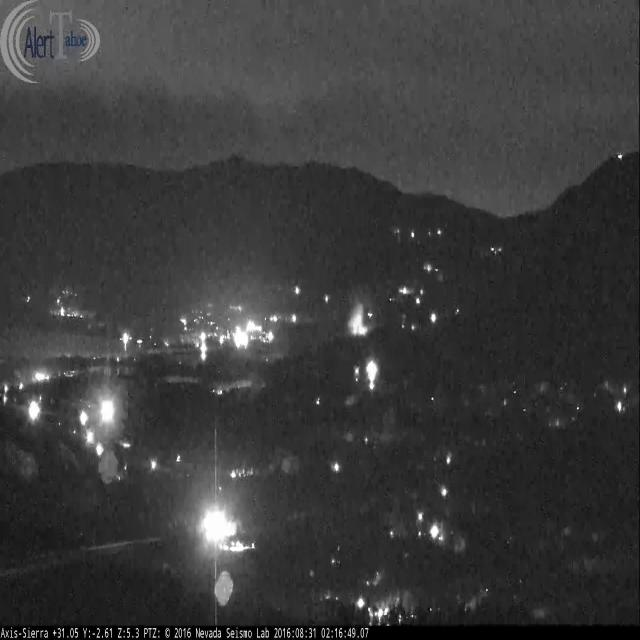smoke: (343, 292, 379, 334)
